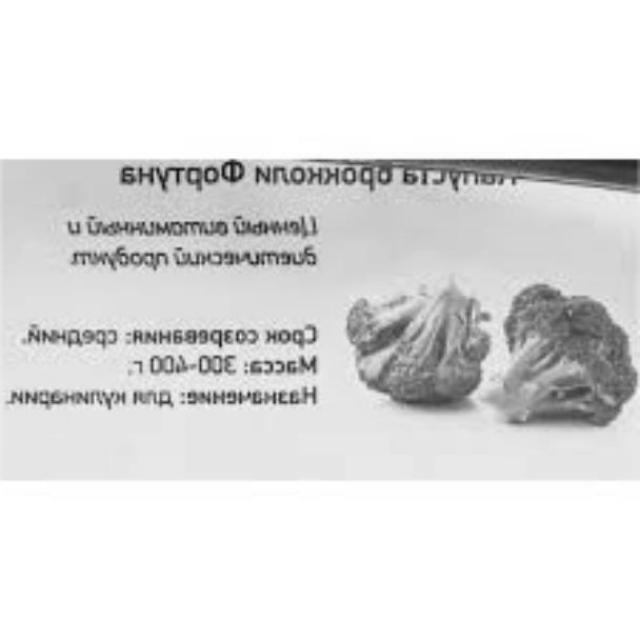broccoli: (450, 264, 640, 420), (314, 255, 488, 406)
